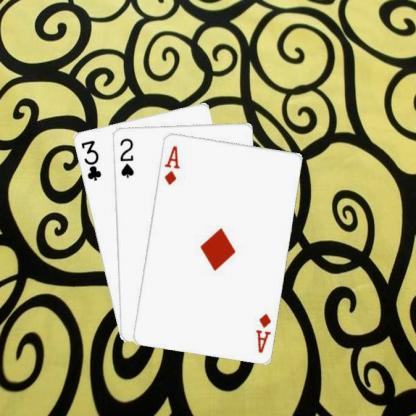2S: (116, 135, 134, 179)
3C: (78, 137, 102, 182)
AD: (161, 142, 181, 186), (252, 310, 272, 354)
